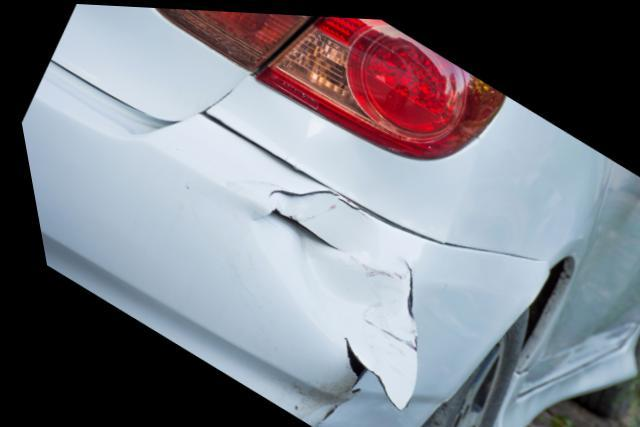crack: (243, 185, 354, 251), (332, 335, 355, 384), (394, 259, 403, 313)
dent: (245, 192, 395, 340)
